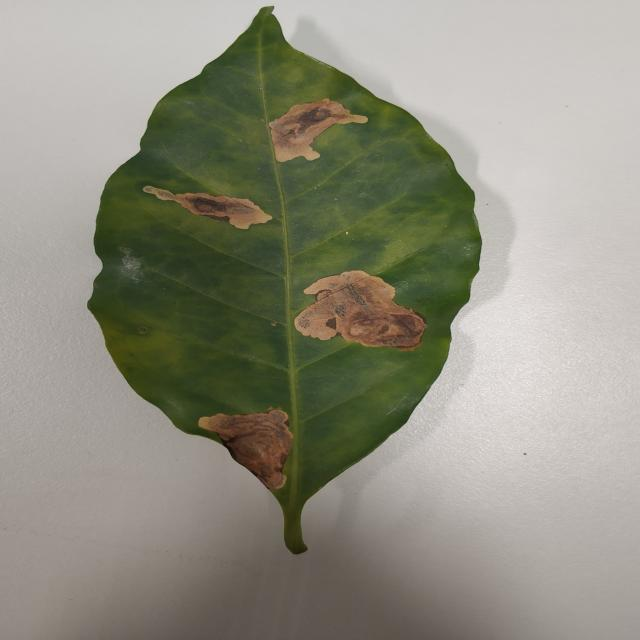Plaga-Minador: (86, 8, 483, 556)
